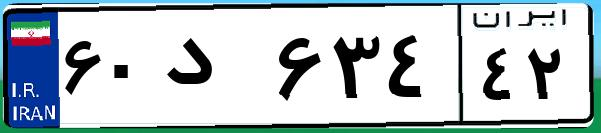0: (110, 28, 158, 98)
2: (525, 38, 570, 115)
3: (330, 28, 385, 110)
4: (385, 28, 445, 110), (475, 38, 525, 113)
6: (270, 28, 330, 110), (57, 26, 110, 100)
د: (158, 20, 270, 120)
